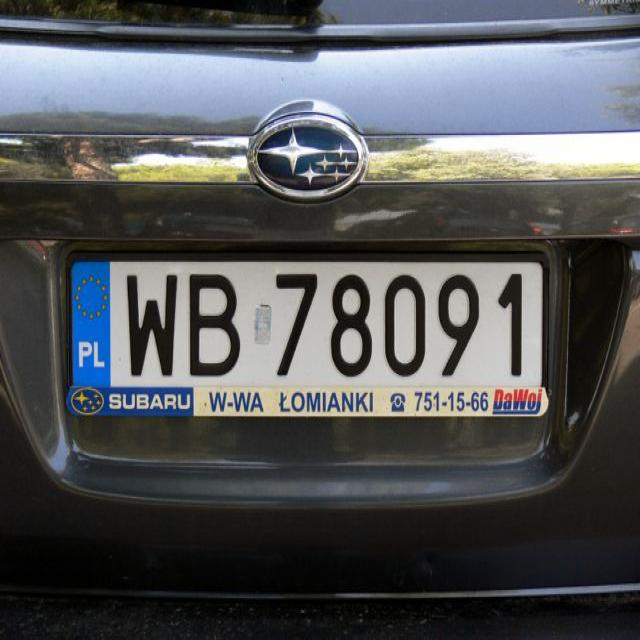pl_license_plate: (70, 261, 543, 386)
